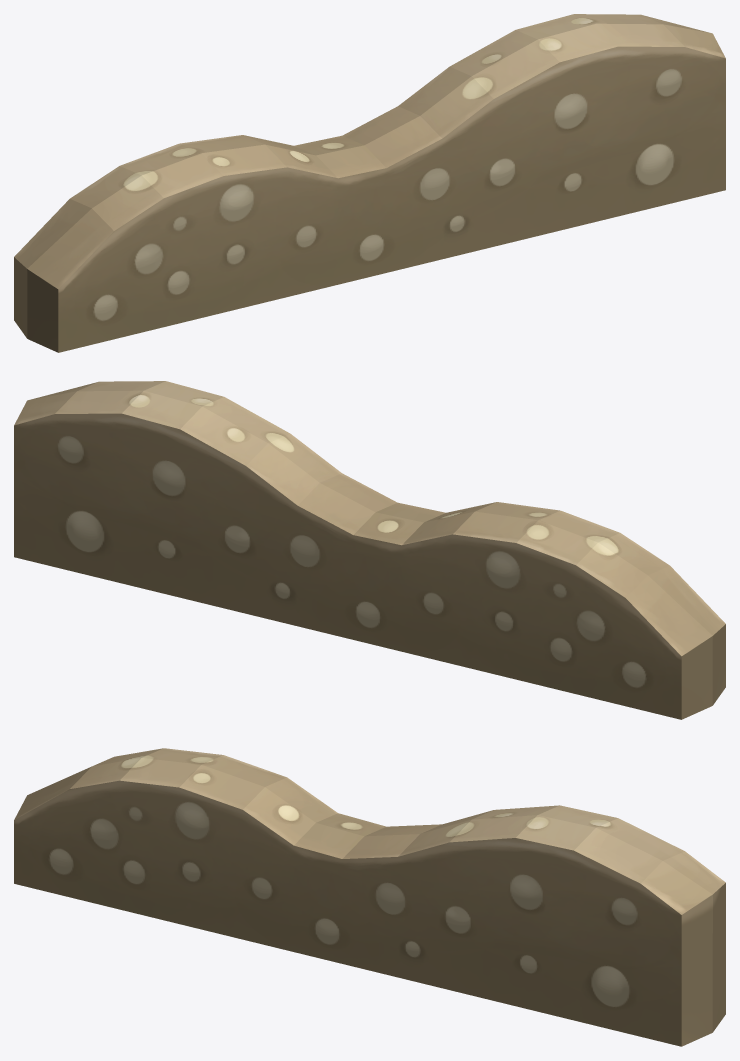
The model's file is common_obj_178.fbx.
3 views of the same model, one above another, from view 1: azimuth 30°, elevation 25°; view 2: azimuth 150°, elevation 25°; view 3: azimuth 330°, elevation 25° (orthographic).
Parts seen in each view (by area): view 1: common_obj_178; view 2: common_obj_178; view 3: common_obj_178.
Part boxes in pixels (x1,y1,x2,y2): common_obj_178: (14,14,725,352); common_obj_178: (14,381,725,719); common_obj_178: (14,748,725,1046).
Bounding box in the file's own units: 625 × 154 × 70.06.
